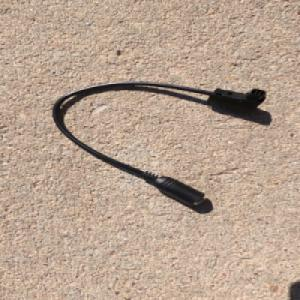Wire: (50, 79, 268, 207)
